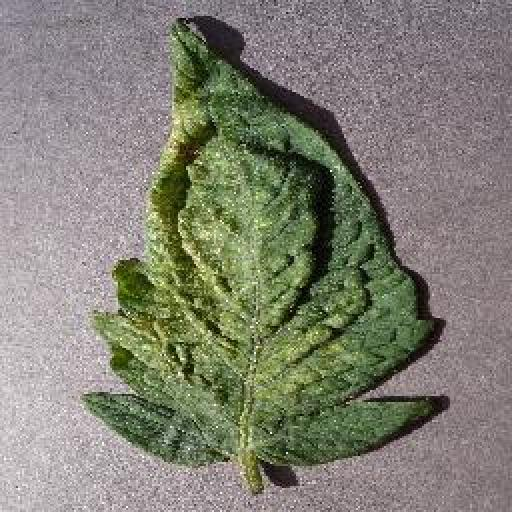Spider Mites: (80, 18, 434, 466)
